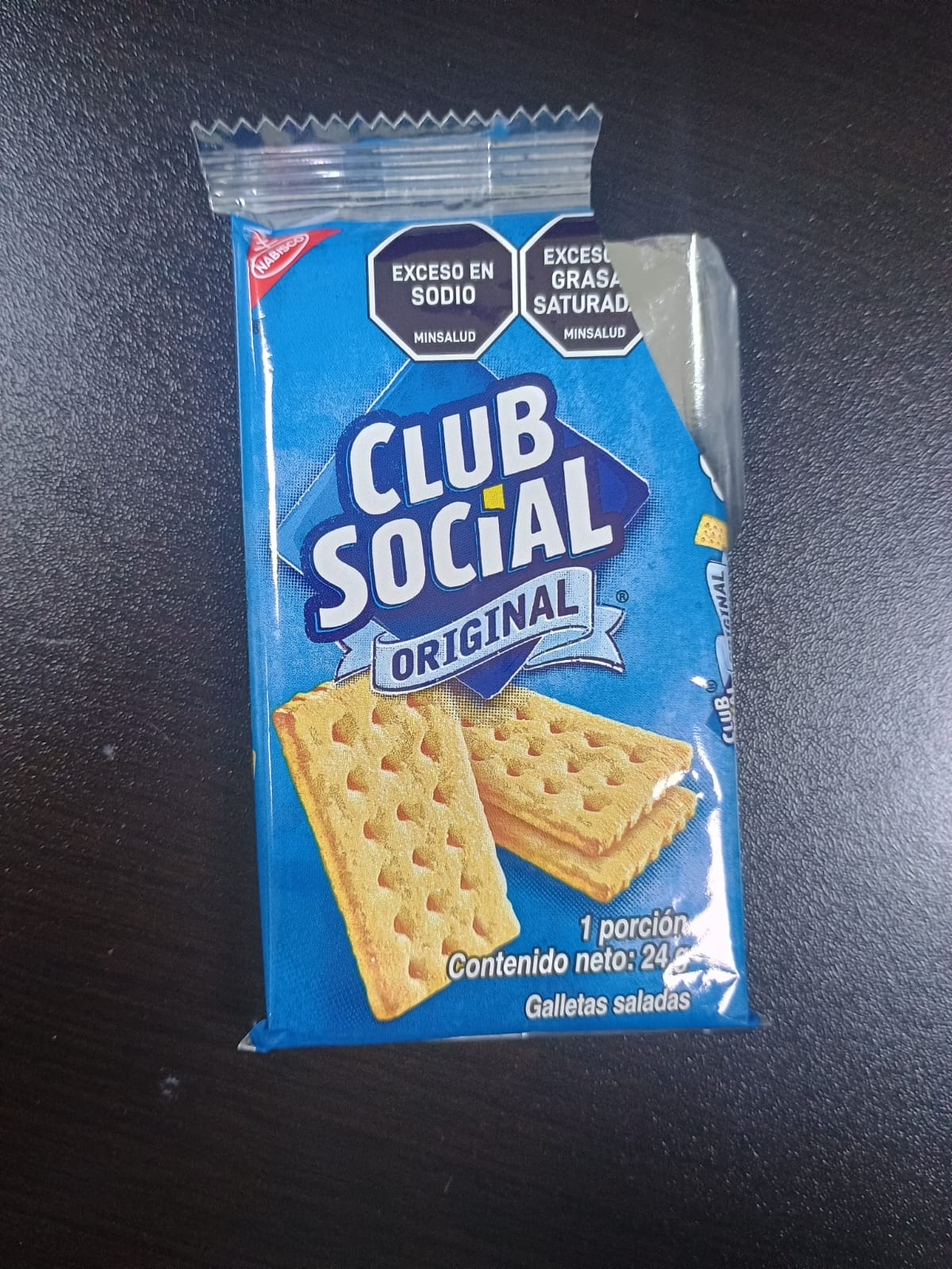Ordinario: (189, 112, 751, 1053)
